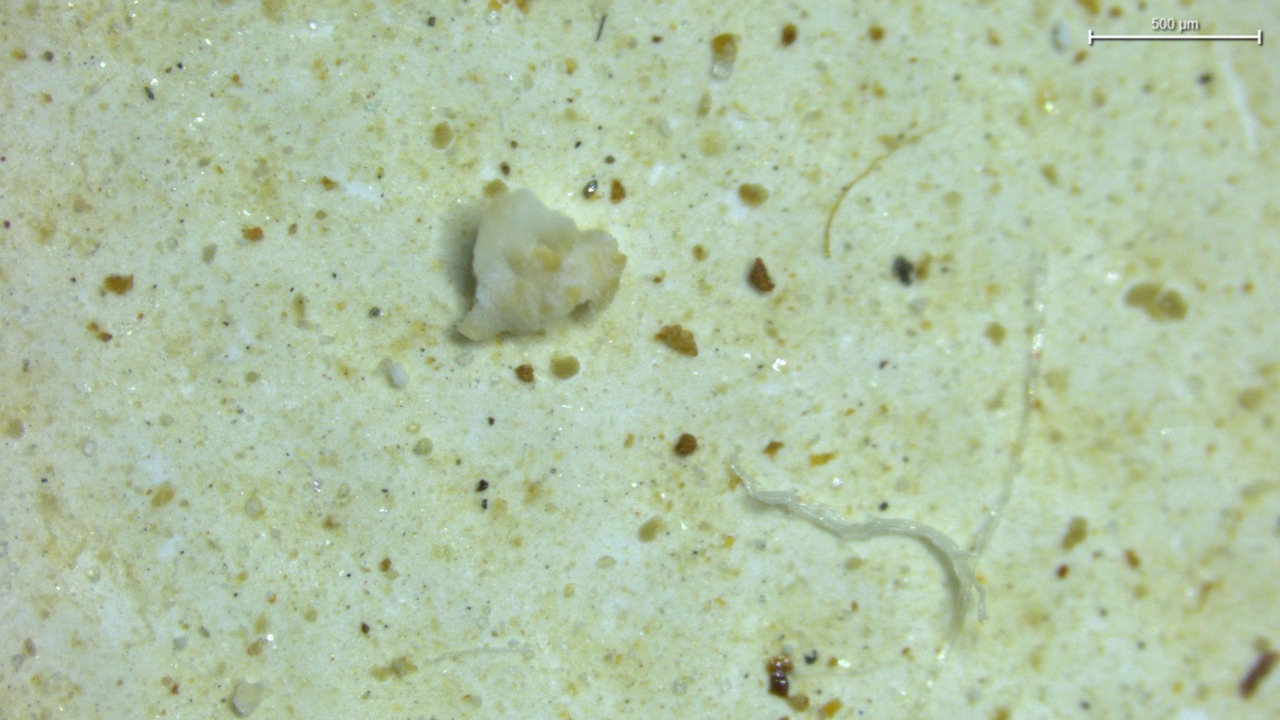microplastic_fragment: (458, 189, 626, 340)
